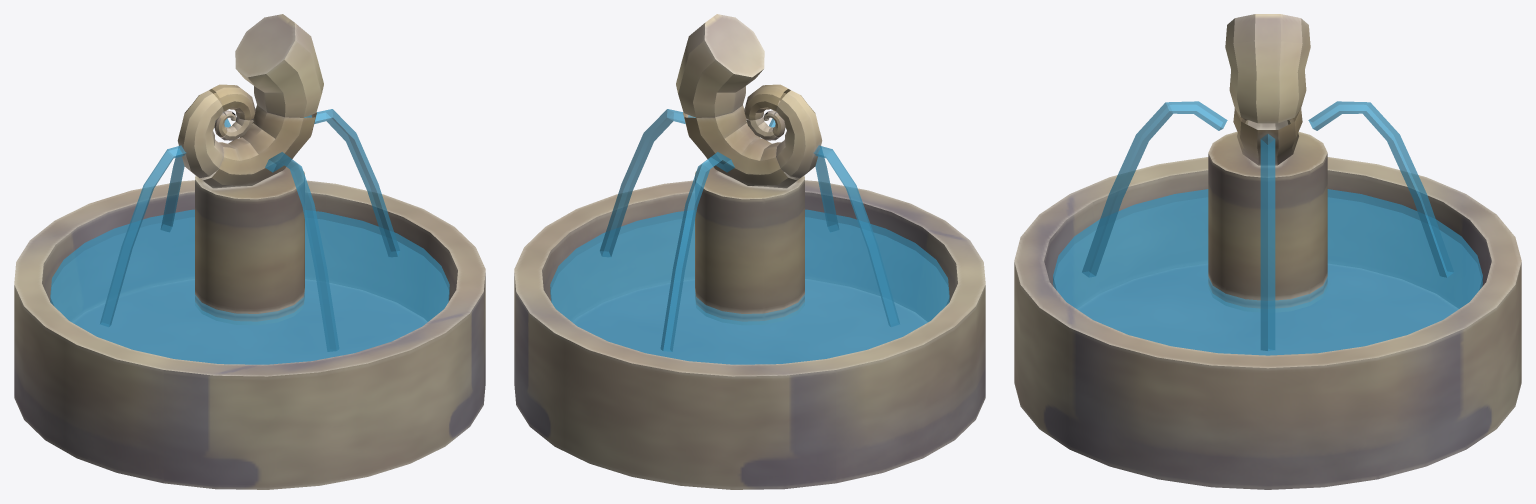
Rendered from ammonite_fountain.glb.
The picture shows the model from 3 angles, left to right: view 1: azimuth 30°, elevation 25°; view 2: azimuth 150°, elevation 25°; view 3: azimuth 270°, elevation 25°; orthographic projection. The views are drawn at different scales.
Parts seen in each view (by area): view 1: SM_AmmoniteFountain; view 2: SM_AmmoniteFountain; view 3: SM_AmmoniteFountain.
Part boxes in pixels (left/top/right/bottom): SM_AmmoniteFountain: left=14, top=14, right=485, bottom=489; SM_AmmoniteFountain: left=514, top=14, right=985, bottom=489; SM_AmmoniteFountain: left=1014, top=14, right=1521, bottom=489.
Size of what is drawn, in the model's own units: 1.7 by 1.44 by 1.7.
2 materials, 1 textured.
